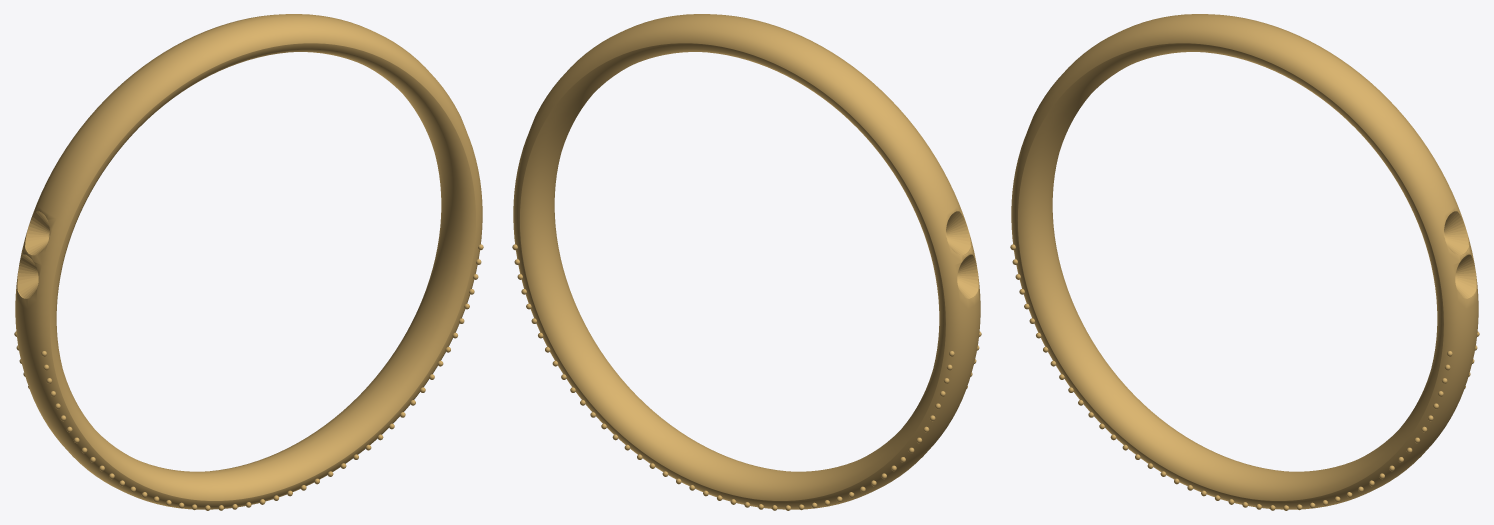
File: vintage-bar-multi.glb
3 views of the same model, side by side, from view 1: azimuth 30°, elevation 25°; view 2: azimuth 150°, elevation 25°; view 3: azimuth 330°, elevation 25° (orthographic).
Visible parts, largest first — view 1: Band; view 2: Band; view 3: Band.
Part boxes in pixels (box(x1,y1,x2,y2)): Band: box(15, 14, 482, 509); Band: box(513, 14, 980, 509); Band: box(1011, 14, 1478, 509).
Bounding box in the file's own units: 19.6 × 19.6 × 2.22.
